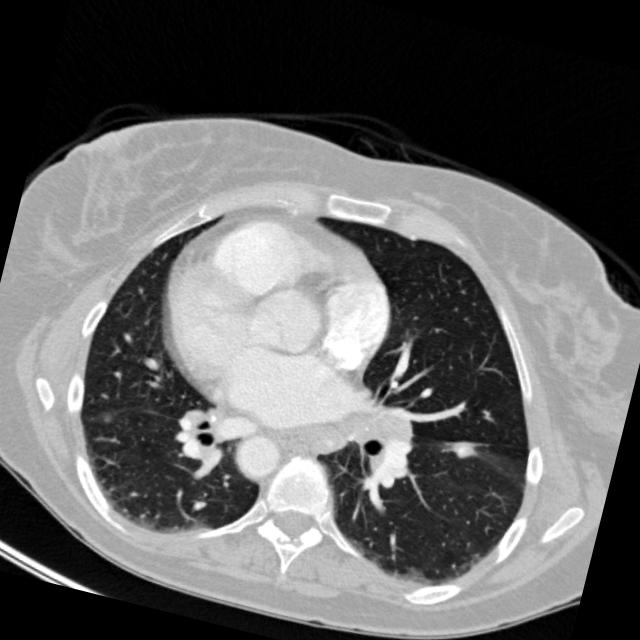nodule: (438, 423, 489, 474)
